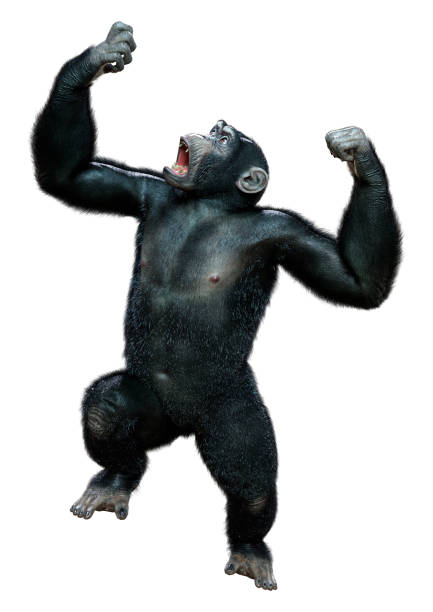chimpanzee: (142, 100, 284, 238)
